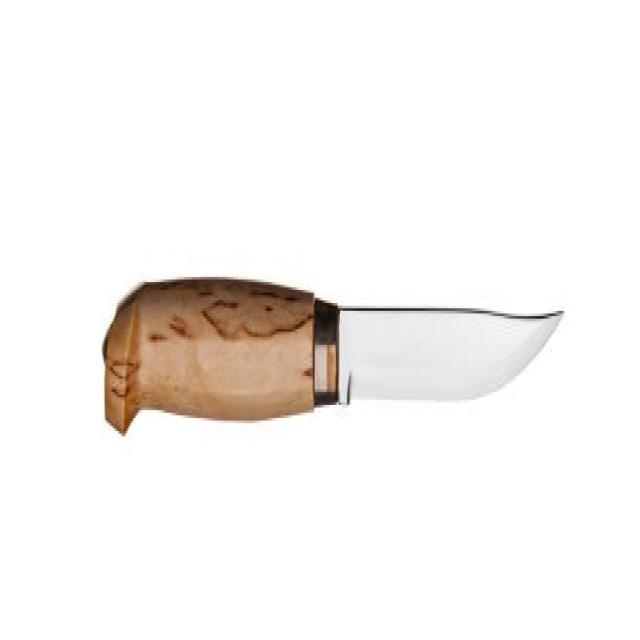knife: (100, 268, 568, 445)
